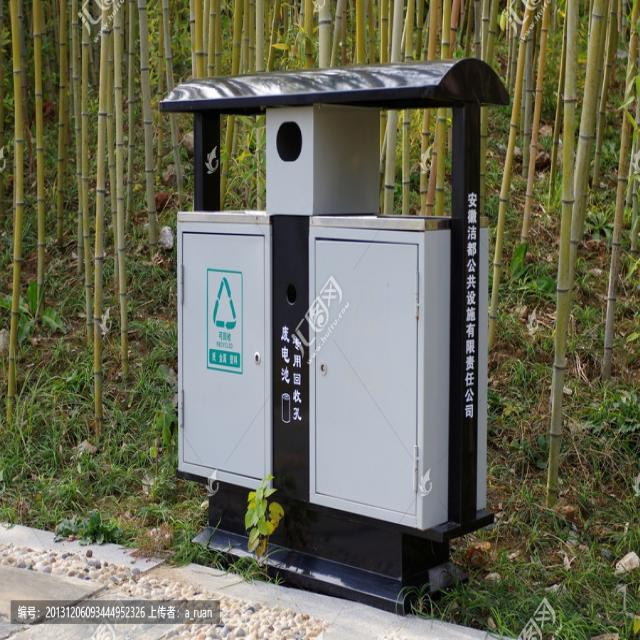garbage_bin: (157, 57, 510, 616)
